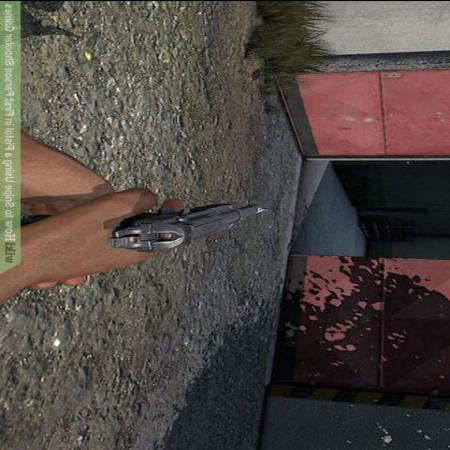Pistol: (20, 201, 280, 252)
